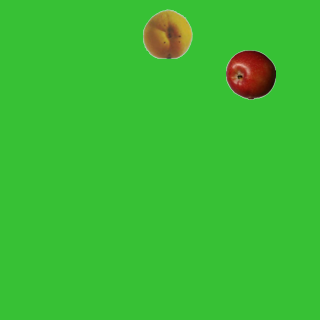Apple Braeburn: (225, 49, 275, 99)
Peach 2: (142, 8, 192, 58)
